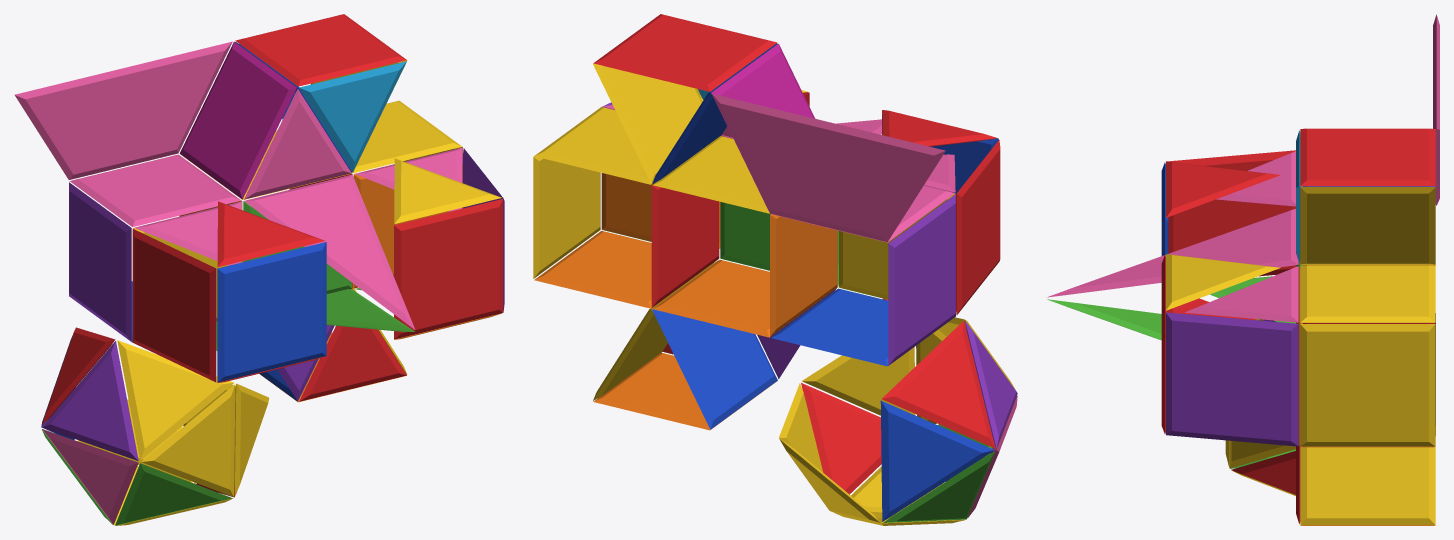
File: tile_starship_panels.obj
The picture shows the model from 3 angles, left to right: view 1: azimuth 30°, elevation 25°; view 2: azimuth 150°, elevation 25°; view 3: azimuth 270°, elevation 25°; orthographic projection. The views are drawn at different scales.
Visible parts, largest first — view 1: outrigger_wing.wing_trapezoid, nose_pod.nose_pod_roof, tail_pod.tail_pod_roof, nose_pod.nose_pod_end, outrigger_wing.wing_infill_wall, spire.spire_wing, spine.nose_cube_front, outrigger_wing.wing_prism_face, spine.nose_cube_side_wing, dome.dome_12, dome.dome_11, dome.dome_16 (+18 smaller); view 2: outrigger_wing.wing_trapezoid, spine.nose_cube_front, outrigger_wing.wing_prism_face, outrigger_dome.dome_prism_wall_nose, dome.dome_04, dome.dome_07, spine.centre_bulkhead, outrigger_wing.wing_prism_wall_tail, spine.tail_cube_back, spine.nose_cube_bulkhead, spine.nose_cube_side_dome, spine.tail_cube_side_dome (+24 smaller); view 3: spine.tail_cube_back, tail_pod.tail_pod_end, outrigger_dome.dome_prism_wall_tail, outrigger_wing.wing_prism_wall_tail, outrigger_wing.wing_prism_face, spine.tail_cube_side_wing, spire.spire_wing, nose_pod.nose_pod_end, tail_pod.tail_pod_up_wing, nose_pod.nose_pod_down_wing, tail_pod.tail_pod_down_wing, nose_pod.nose_pod_up_wing (+8 smaller).
Boxes of the visible parts, box(x1,y1,x2,y2) form: outrigger_wing.wing_trapezoid: box(14, 41, 232, 179); nose_pod.nose_pod_roof: box(217, 242, 326, 382); tail_pod.tail_pod_roof: box(394, 199, 503, 339); nose_pod.nose_pod_end: box(132, 229, 216, 382); outrigger_wing.wing_infill_wall: box(179, 41, 296, 199); spire.spire_wing: box(244, 174, 415, 329); spine.nose_cube_front: box(69, 182, 131, 341); outrigger_wing.wing_prism_face: box(235, 14, 406, 86); spine.nose_cube_side_wing: box(70, 154, 240, 226); dome.dome_12: box(117, 340, 233, 460); dome.dome_11: box(42, 341, 138, 461); dome.dome_16: box(141, 384, 235, 497); outrigger_wing.wing_trapezoid: box(712, 93, 945, 241); spine.nose_cube_front: box(888, 194, 955, 365); outrigger_wing.wing_prism_face: box(593, 14, 777, 91); outrigger_dome.dome_prism_wall_nose: box(652, 309, 777, 429); dome.dome_04: box(880, 400, 994, 521); dome.dome_07: box(882, 321, 995, 448); spine.centre_bulkhead: box(651, 185, 719, 307); outrigger_wing.wing_prism_wall_tail: box(593, 63, 702, 183); spine.tail_cube_back: box(533, 156, 600, 278); spine.nose_cube_bulkhead: box(770, 214, 837, 336); spine.nose_cube_side_dome: box(771, 288, 888, 366); spine.tail_cube_side_dome: box(534, 231, 651, 308); spine.tail_cube_back: box(1300, 324, 1435, 446); tail_pod.tail_pod_end: box(1166, 312, 1298, 446); outrigger_dome.dome_prism_wall_tail: box(1300, 447, 1435, 525); outrigger_wing.wing_prism_wall_tail: box(1300, 187, 1435, 264); outrigger_wing.wing_prism_face: box(1300, 128, 1435, 186); spine.tail_cube_side_wing: box(1300, 265, 1435, 322); spire.spire_wing: box(1046, 209, 1298, 297); nose_pod.nose_pod_end: box(1167, 150, 1295, 276); tail_pod.tail_pod_up_wing: box(1184, 266, 1298, 322); nose_pod.nose_pod_down_wing: box(1166, 161, 1280, 217); tail_pod.tail_pod_down_wing: box(1166, 254, 1280, 310); nose_pod.nose_pod_up_wing: box(1216, 151, 1295, 206).
Bounding box in the file's own units: 3.6 × 3.49 × 2.87.
